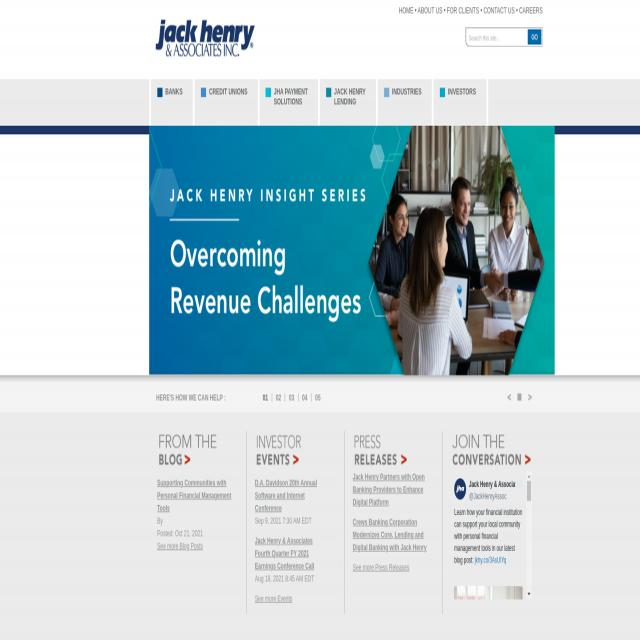button: (148, 126, 554, 375), (149, 0, 288, 75), (195, 79, 258, 126), (260, 79, 318, 126), (320, 78, 376, 125), (378, 79, 432, 126), (434, 79, 486, 126), (151, 79, 193, 126), (454, 586, 523, 600), (454, 476, 466, 501), (528, 29, 542, 44), (526, 392, 534, 404), (516, 391, 523, 404), (527, 481, 531, 502), (506, 391, 512, 403), (526, 589, 532, 600)
field: (466, 28, 542, 46)
